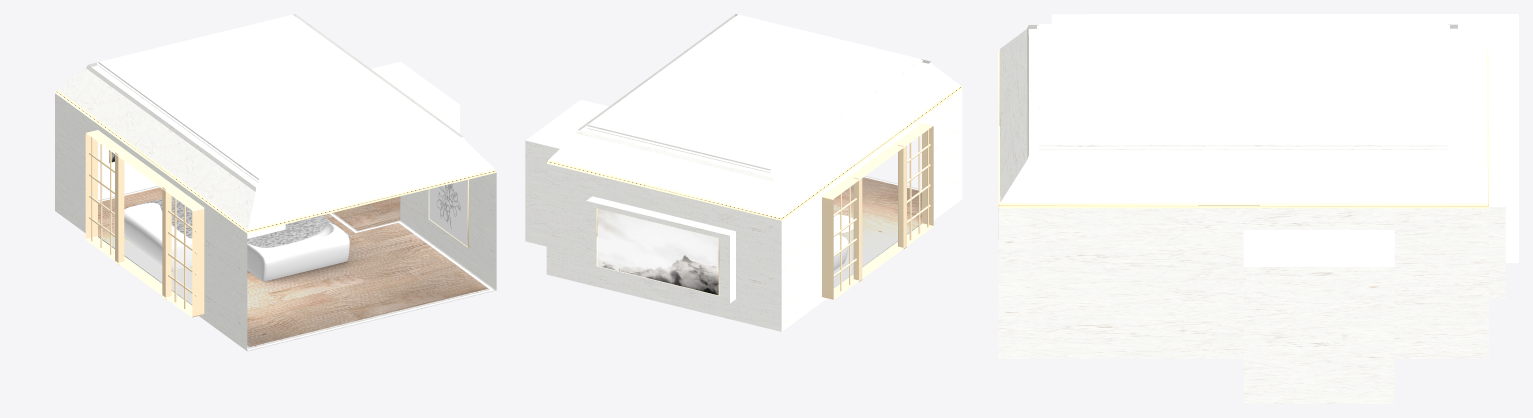
File: testroom.glb
3 renders of one model, left to right at view 1: azimuth 30°, elevation 25°; view 2: azimuth 150°, elevation 25°; view 3: azimuth 270°, elevation 25°, orthographic. The views are drawn at different scales.
Parts seen in each view (by area): view 1: Modern Living Room; view 2: Modern Living Room; view 3: Modern Living Room.
Part boxes in pixels (left/top/right/bottom): Modern Living Room: left=55, top=14, right=496, bottom=351; Modern Living Room: left=525, top=14, right=962, bottom=331; Modern Living Room: left=998, top=14, right=1518, bottom=403.
Size of what is drawn, in the model's own units: 33.02 by 20.06 by 34.49.
Materials: 17 (10 with a texture image).
